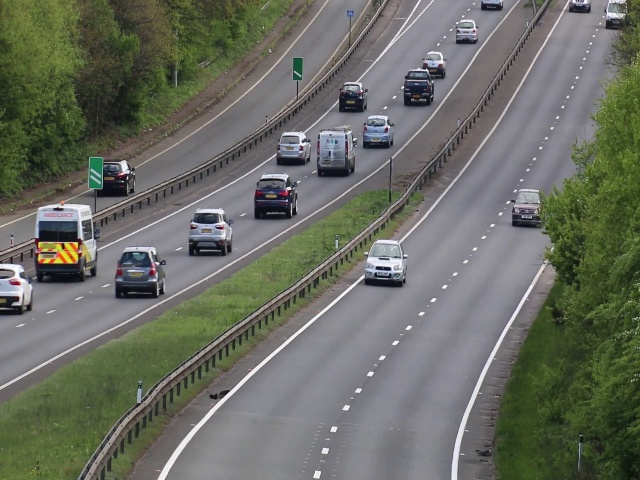car: (38, 202, 100, 280), (112, 244, 166, 298), (185, 206, 234, 254), (363, 237, 406, 289), (252, 172, 298, 218), (317, 127, 356, 176), (1, 263, 32, 315), (402, 68, 434, 109), (275, 128, 312, 163), (513, 188, 540, 231), (105, 158, 132, 196), (363, 115, 395, 147), (338, 81, 368, 112), (457, 19, 479, 42), (423, 52, 442, 63)
